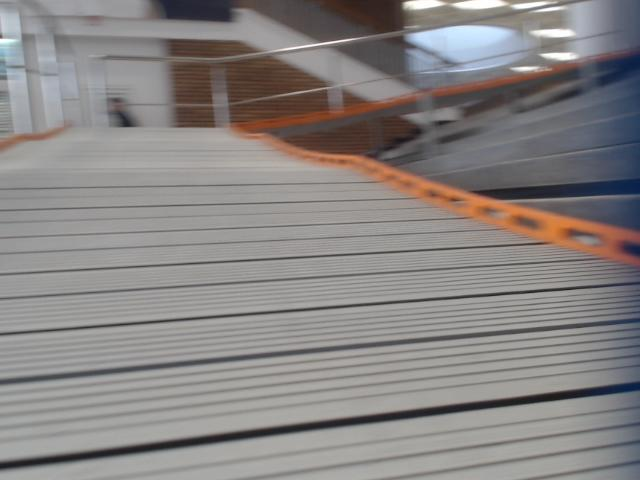rampUp: (0, 126, 639, 479)
ramps-railing: (90, 22, 459, 63), (212, 54, 357, 125), (11, 2, 86, 129), (88, 59, 114, 126), (473, 6, 546, 21), (116, 97, 175, 110)
